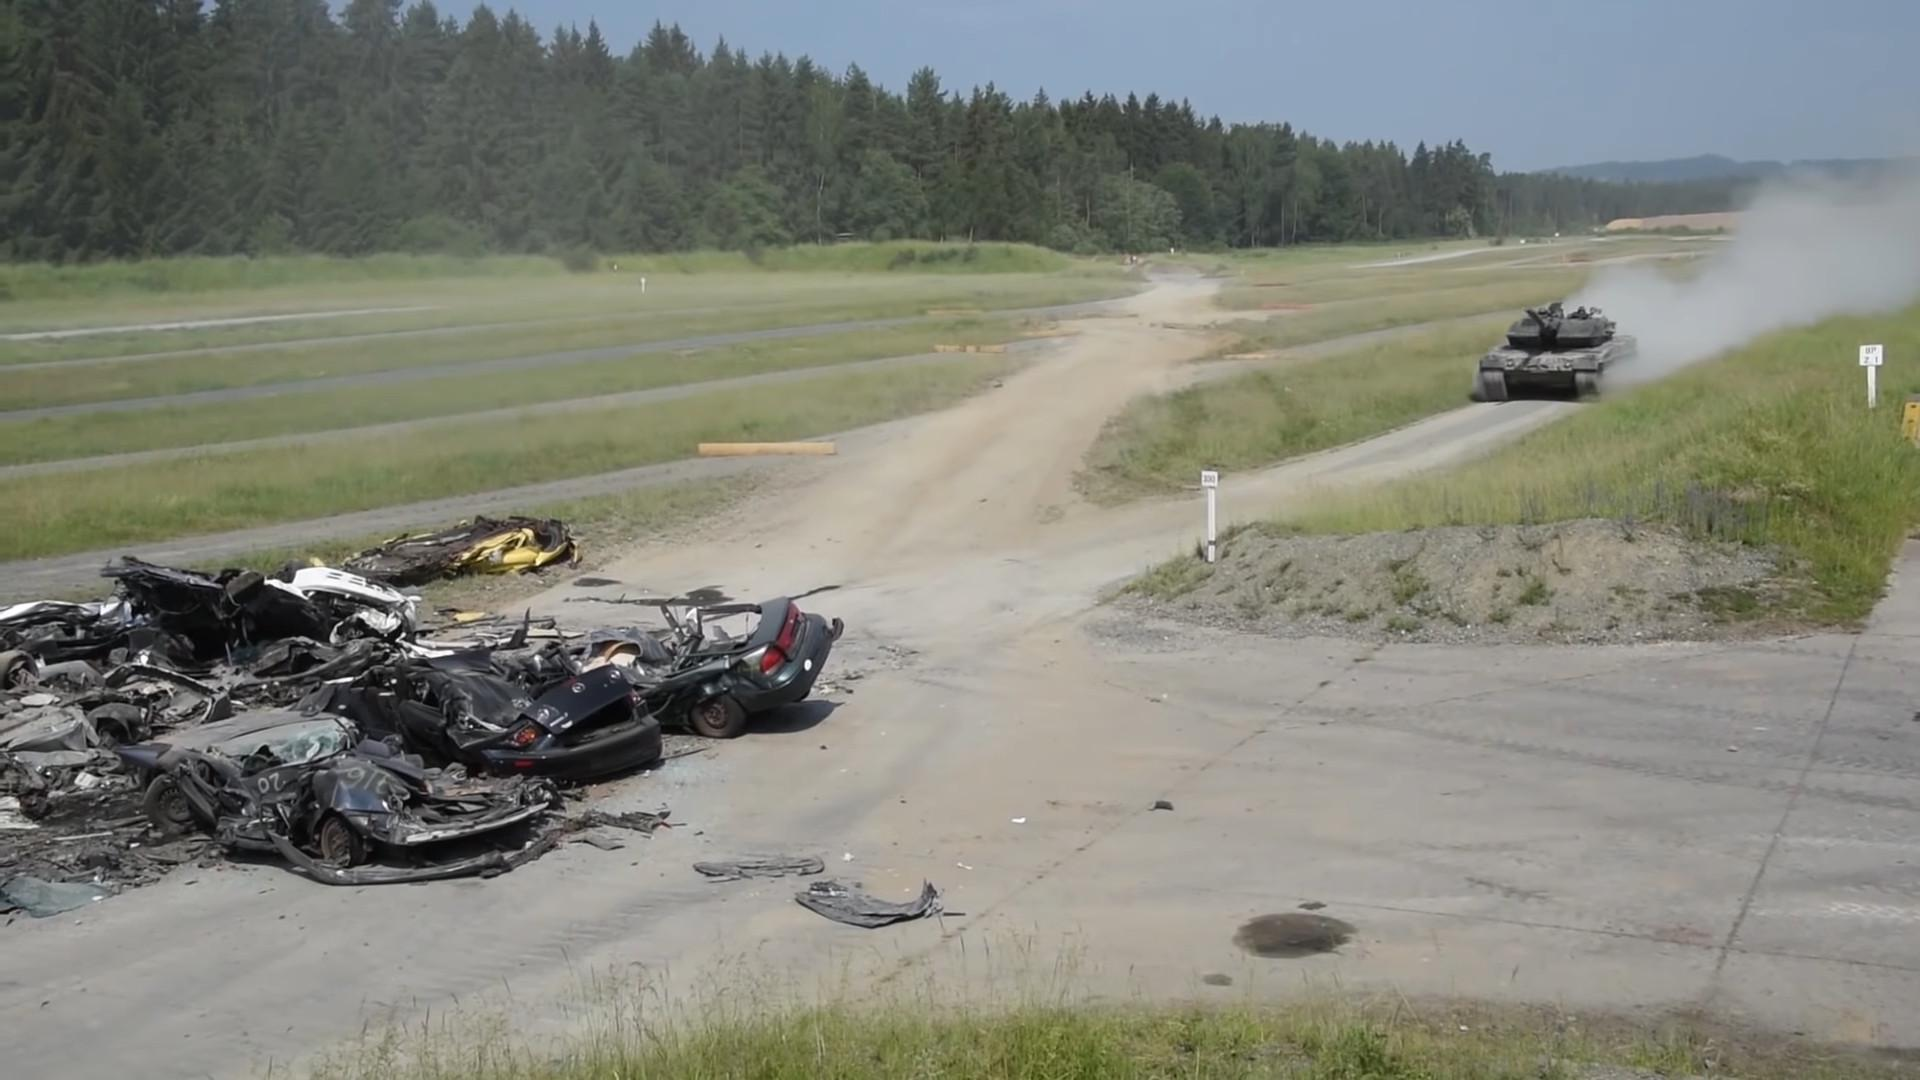tank: (1482, 310, 1643, 404)
